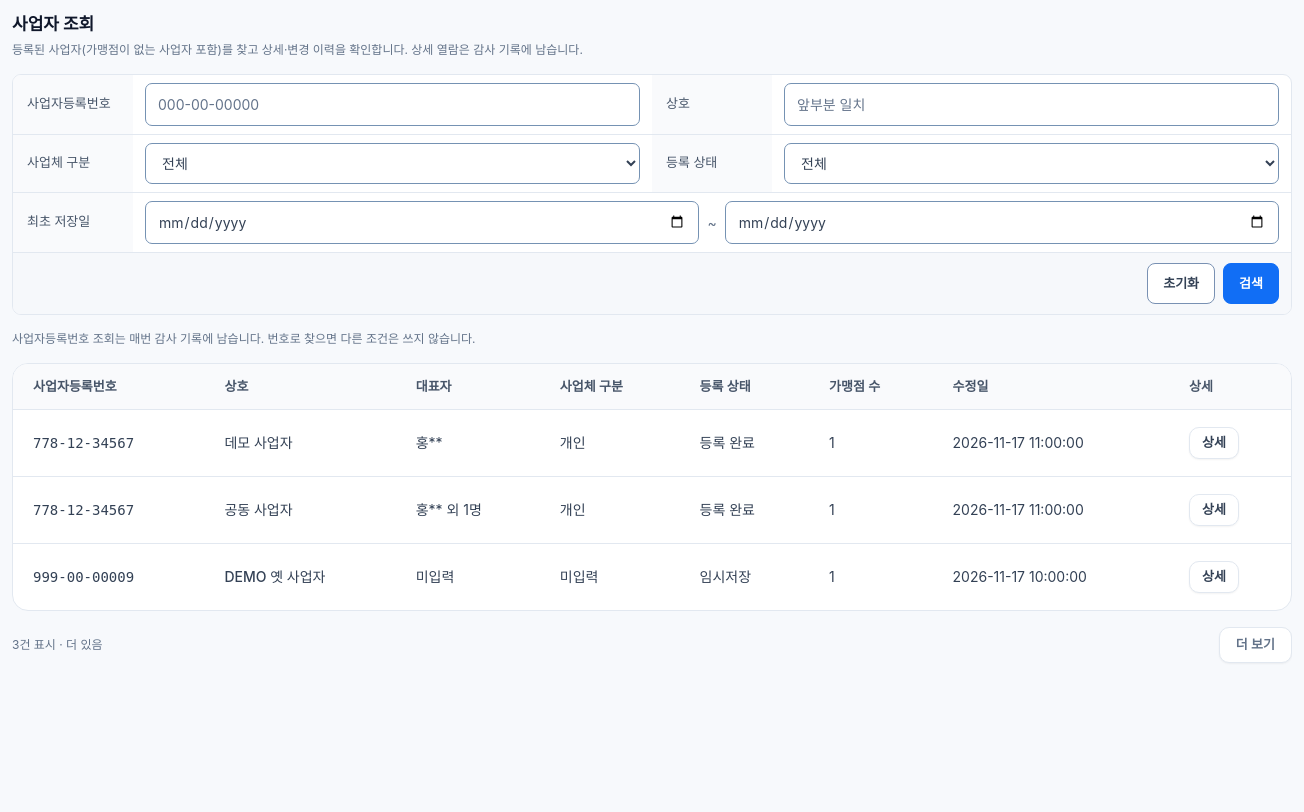
BusinessesScreen — 목록·검색 (BIZ-4-3, §8.2) › lists with the raw number (hyphenated — D-BIZ-007), name, masked representative + "외 N명", 구분 (미입력), status, merchant count — no Business ID or 진위확인 column; "더 보
Expected: the heading "사업자 조회" is shown, [12, 14, 94, 34]
Expected: the table named "사업자 목록" is shown, [13, 364, 1291, 610]
Click the button "더 보기" at (1255, 645), box [1219, 627, 1292, 663]
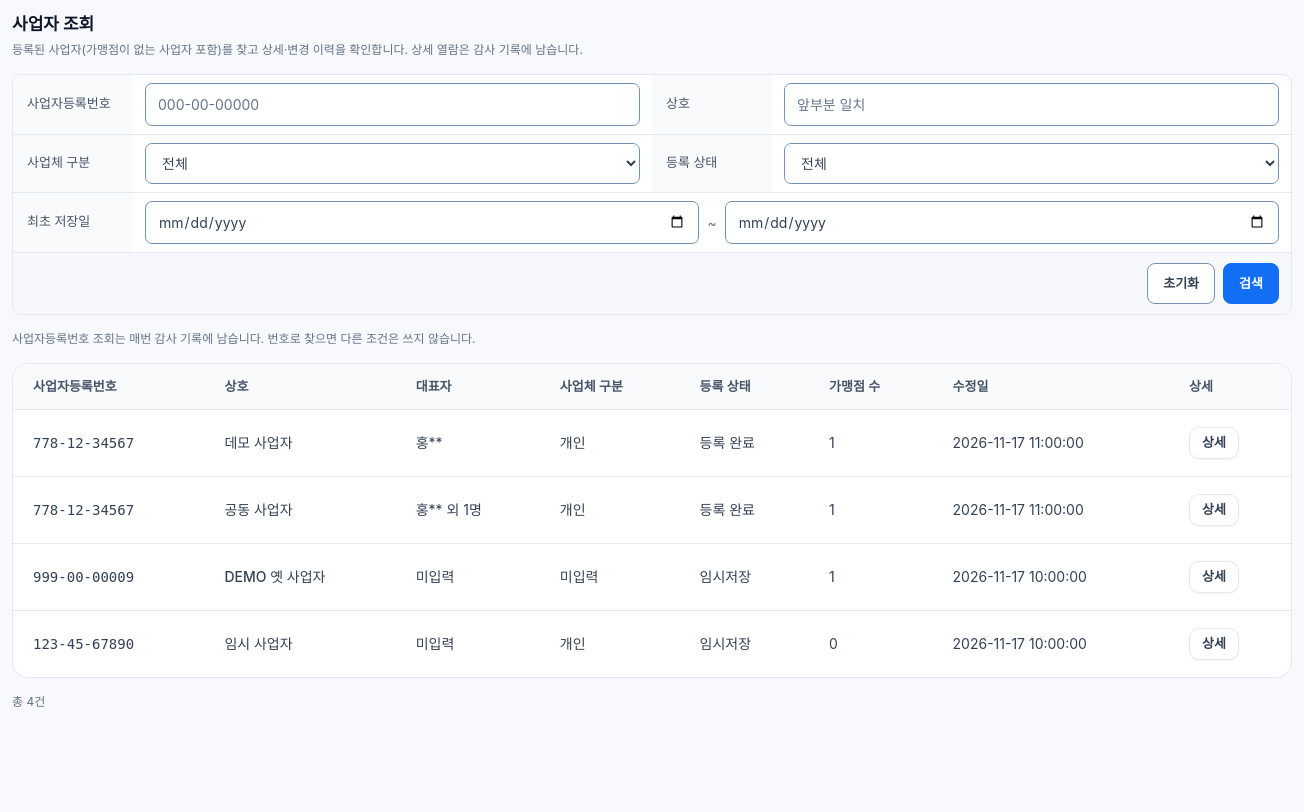
Expected: the button "더 보기" is gone
